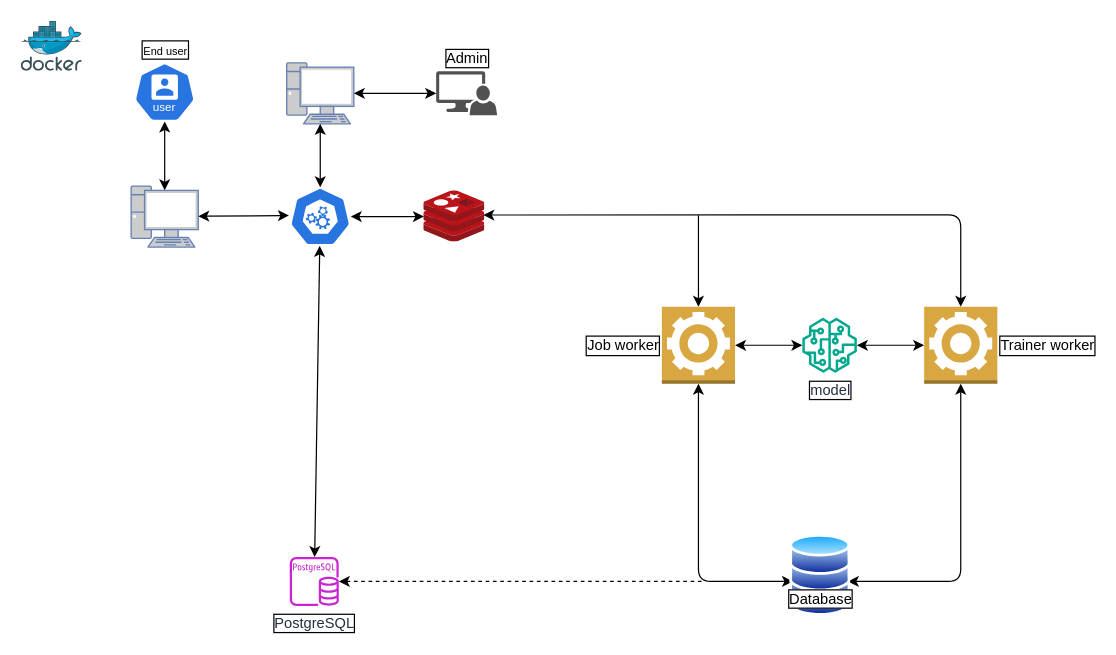
This 1116x655 diagram has some shape labels left out. Here are the shapes that lost their labels. From the top down, the centre of each, then its label:
At point (319, 92): "Management Channel".
At point (164, 216): "React".
At point (320, 216): "FastApi".
